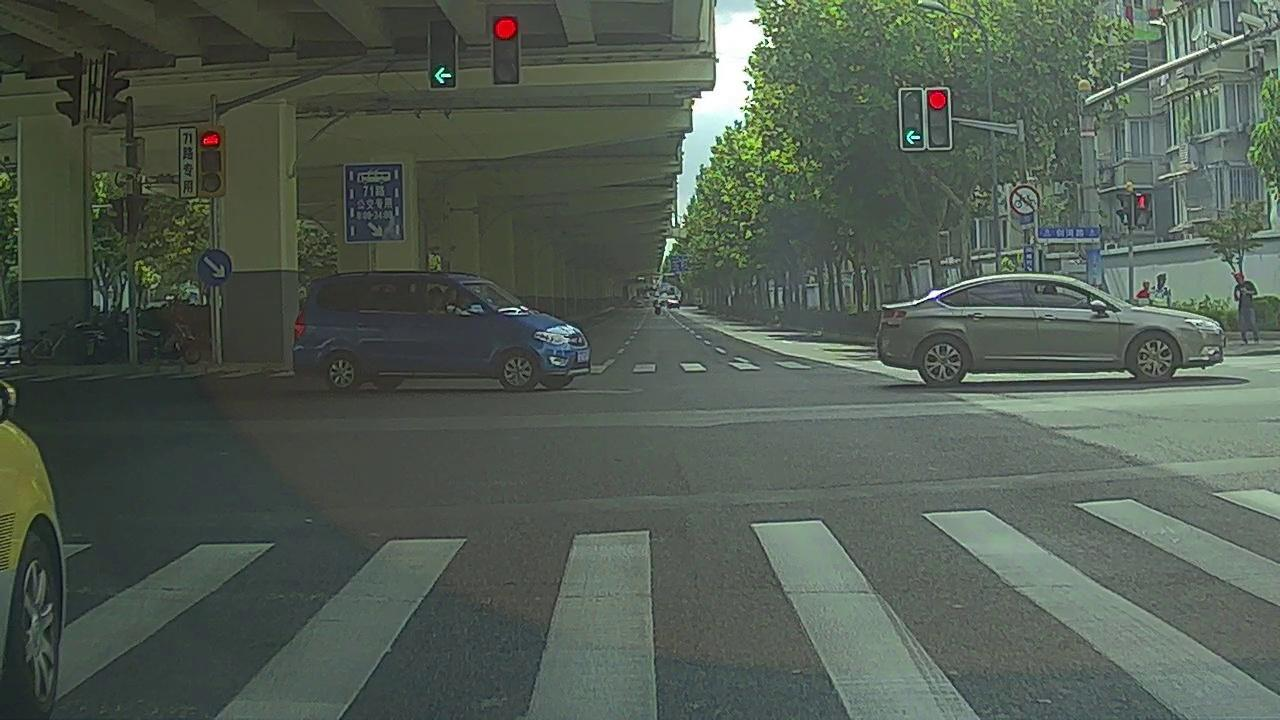traffic_light: (427, 17, 459, 87), (493, 14, 523, 88), (900, 89, 923, 150), (927, 89, 950, 149)
